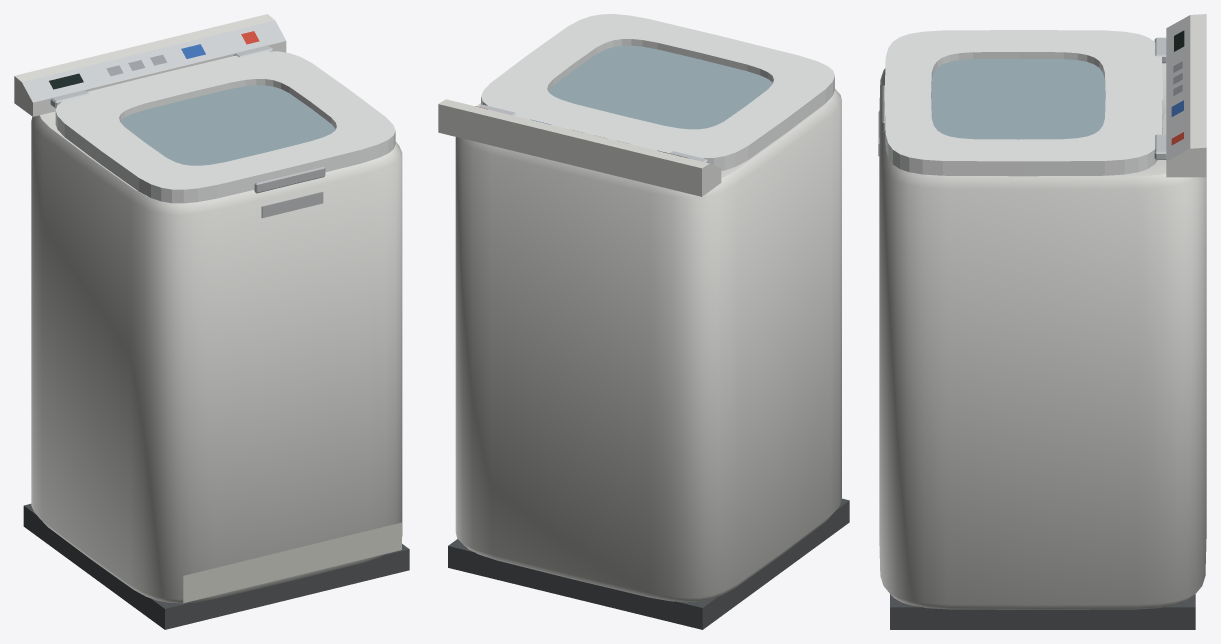
Rendered from washer.glb.
3 renders of one model, left to right at view 1: azimuth 30°, elevation 25°; view 2: azimuth 150°, elevation 25°; view 3: azimuth 270°, elevation 25°, orthographic. The views are drawn at different scales.
Visible parts, largest first — view 1: body, lid; view 2: body, lid; view 3: body, lid.
Part boxes in pixels (x1,y1,x2,y2): body: (14, 14, 409, 629); lid: (50, 45, 395, 203); body: (438, 89, 849, 629); lid: (479, 14, 834, 170); body: (878, 14, 1206, 629); lid: (882, 30, 1166, 176).
Bounding box in the file's own units: 0.6 × 0.98 × 0.6015.
